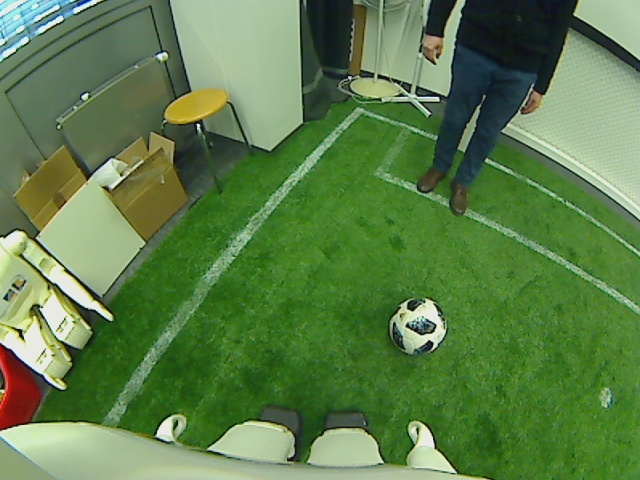ball: (388, 297, 448, 355)
